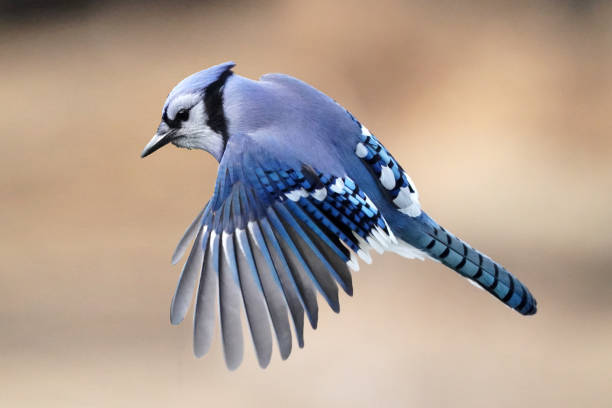Bird: (133, 58, 541, 385)
